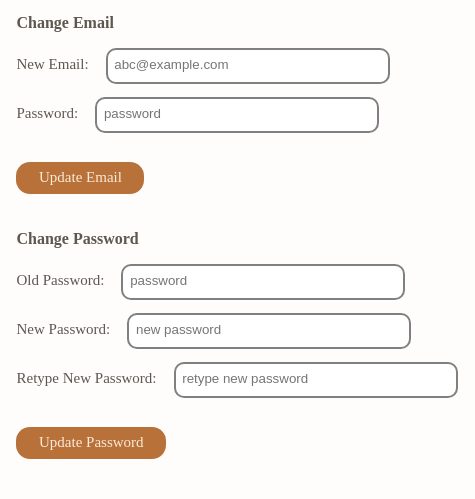
Test: EditProfileForm › blocks email change when validation fails
Click the button "Update Email" at (80, 178), box [16,162,144,194]
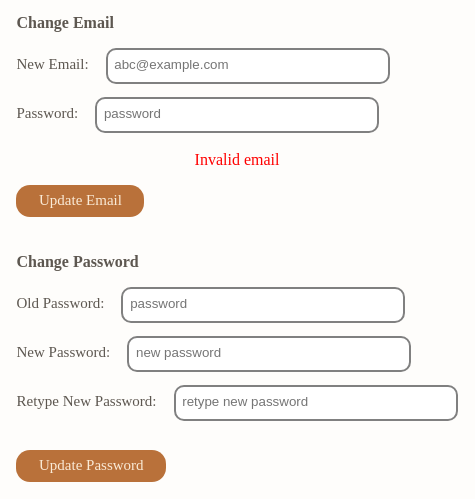
Result: the text "Invalid email" is shown at [195,151,280,168]
